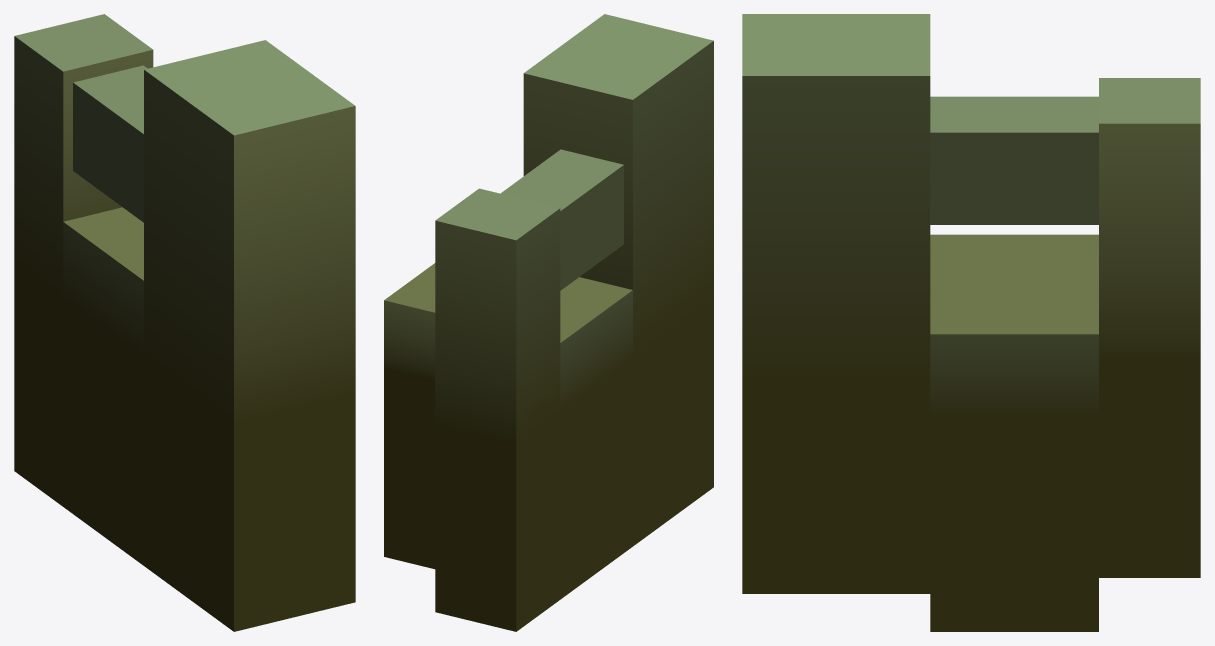
Rendered from Pillar_02.fbx.
3 renders of one model, left to right at view 1: azimuth 30°, elevation 25°; view 2: azimuth 150°, elevation 25°; view 3: azimuth 270°, elevation 25°, orthographic. The views are drawn at different scales.
Parts seen in each view (by area): view 1: Pillar_02; view 2: Pillar_02; view 3: Pillar_02.
Boxes of the visible parts, x1,y1,x2,y2 form: Pillar_02: (14, 14, 355, 631); Pillar_02: (384, 14, 713, 631); Pillar_02: (742, 14, 1200, 631).
Size of the model in its own units: 157 by 381 by 306.
